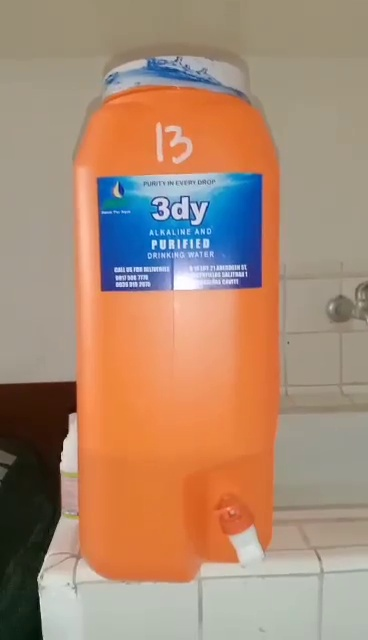gallon: (70, 56, 284, 583)
